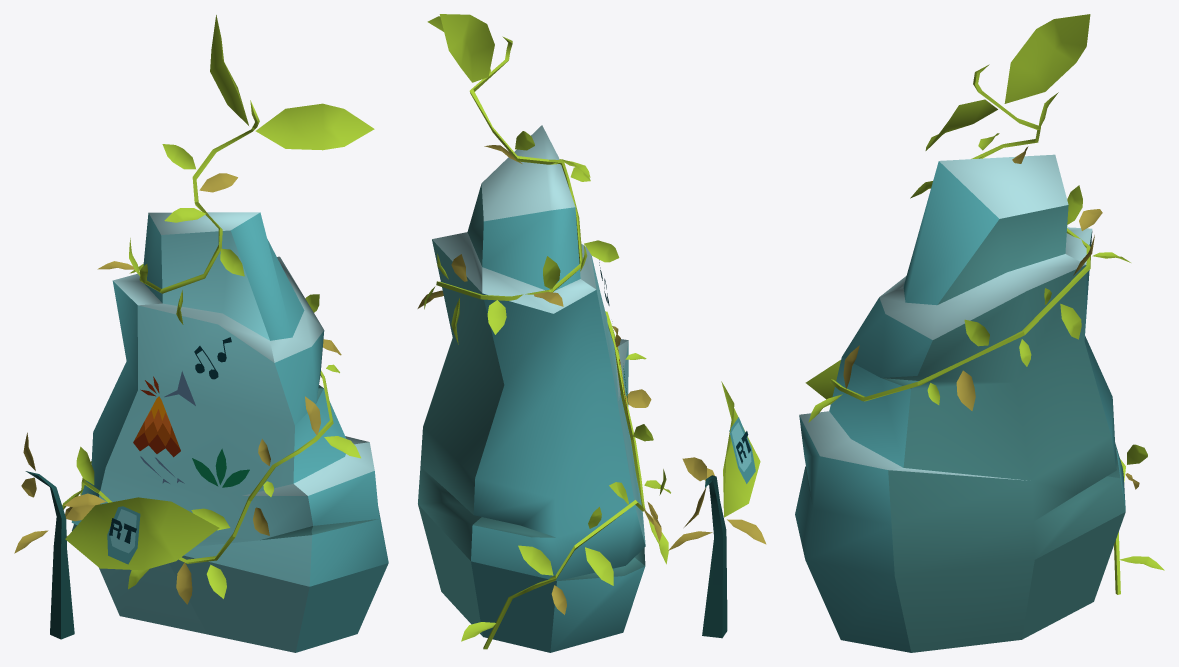
Rendered from MuralGeral.fbx.
3 views of the same model, side by side, from view 1: azimuth 30°, elevation 25°; view 2: azimuth 150°, elevation 25°; view 3: azimuth 270°, elevation 25° (orthographic). The views are drawn at different scales.
Visible parts, largest first — view 1: polySurface54, polySurface130; view 2: polySurface54, polySurface130; view 3: polySurface54.
Part boxes in pixels (<box>): polySurface54: <box>14,15,388,652</box>; polySurface130: <box>107,506,140,564</box>; polySurface54: <box>417,14,766,652</box>; polySurface130: <box>729,417,755,483</box>; polySurface54: <box>795,14,1164,652</box>.
Bounding box in the file's own units: 1049 × 1648 × 906.
